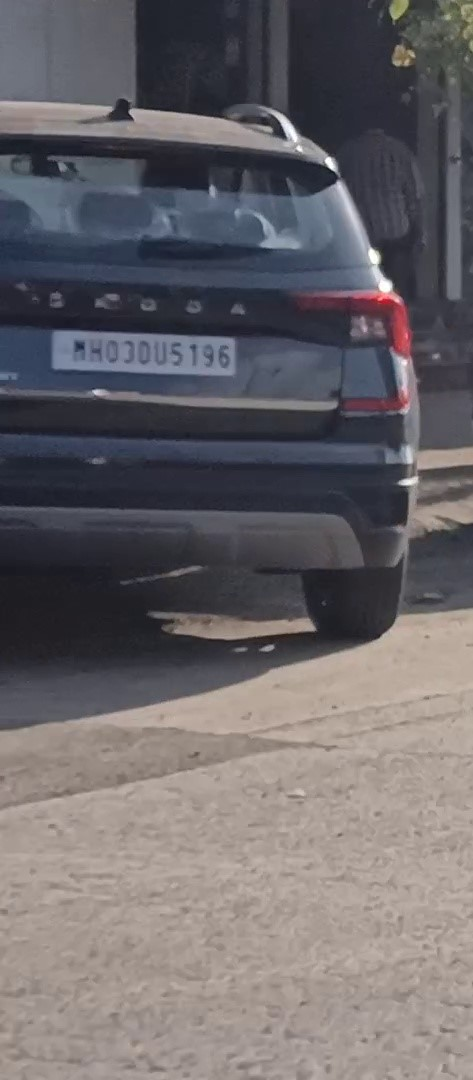MH03DU5196: (49, 326, 236, 374)
